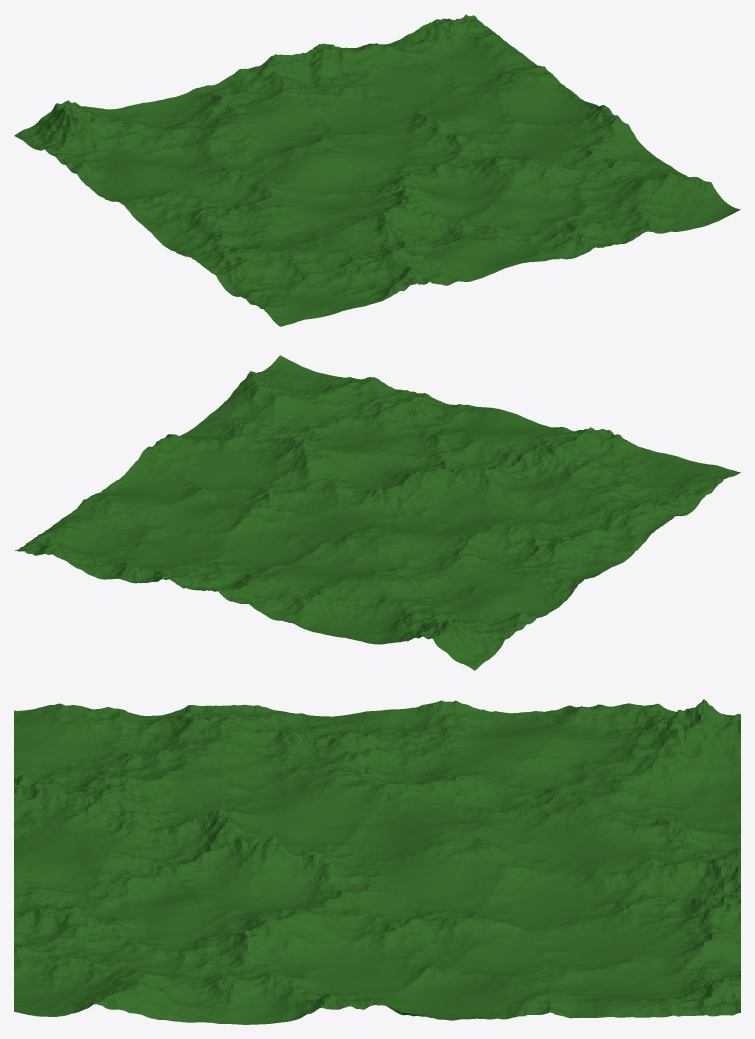
Rendered from talaj.fbx.
3 views of the same model, one above another, from view 1: azimuth 30°, elevation 25°; view 2: azimuth 150°, elevation 25°; view 3: azimuth 270°, elevation 25° (orthographic). The views are drawn at different scales.
Visible parts, largest first — view 1: Talaj; view 2: Talaj; view 3: Talaj.
Part boxes in pixels (left/top/right/bottom): Talaj: left=14, top=14, right=740, bottom=326; Talaj: left=14, top=355, right=740, bottom=670; Talaj: left=14, top=699, right=740, bottom=1024.
Size of the model in its own units: 20 by 1.39 by 20.
